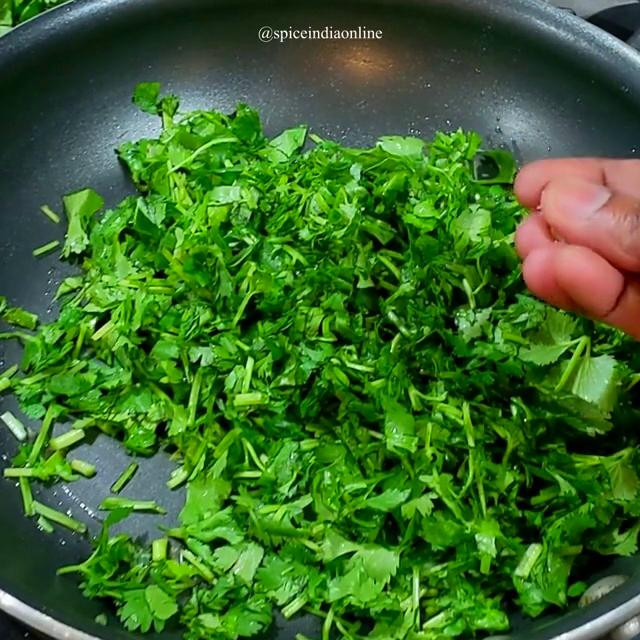cilantro: (139, 144, 506, 607)
